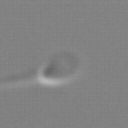normal: (1, 69, 39, 96)
